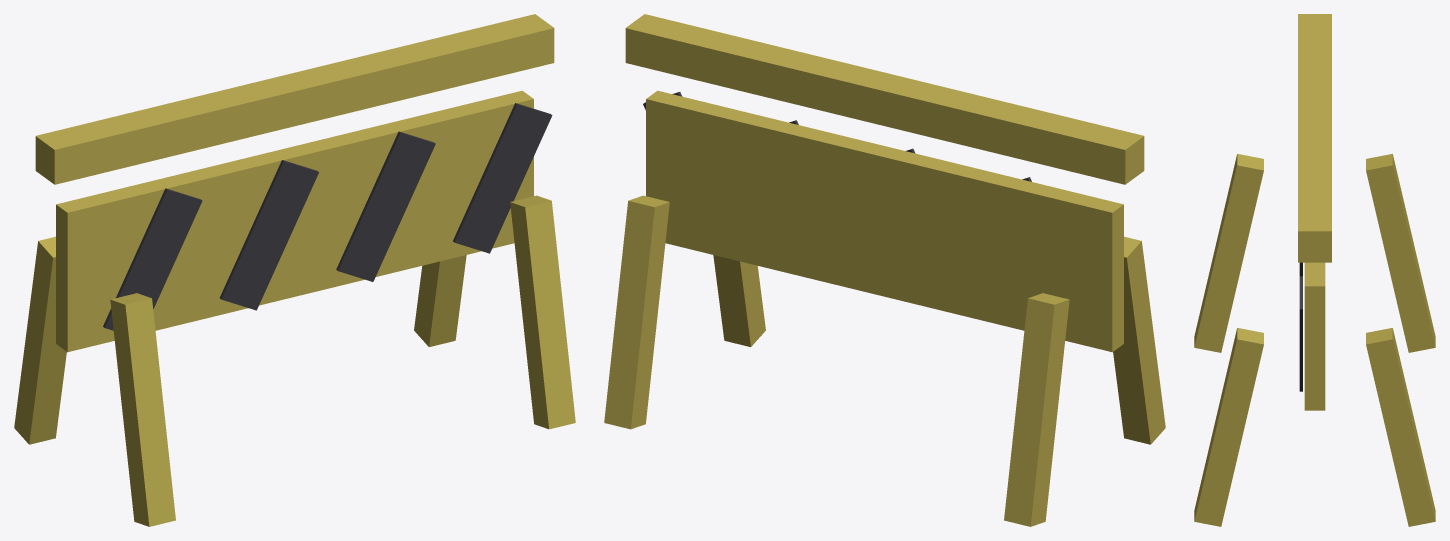
Rendered from prop_barricade.glb.
3 renders of one model, left to right at view 1: azimuth 30°, elevation 25°; view 2: azimuth 150°, elevation 25°; view 3: azimuth 270°, elevation 25°, orthographic. The views are drawn at different scales.
Parts seen in each view (by area): view 1: barricade; view 2: barricade; view 3: barricade.
Boxes of the visible parts, box(x1,y1,x2,y2) form: barricade: box(14, 14, 575, 526); barricade: box(604, 14, 1165, 526); barricade: box(1194, 14, 1435, 526).
Bounding box in the file's own units: 1.5 × 1 × 0.703.
